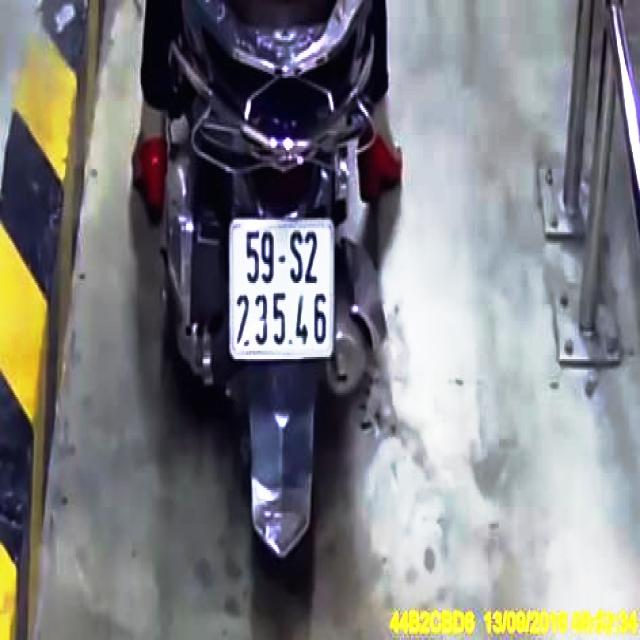license_plate: (235, 217, 334, 356)
